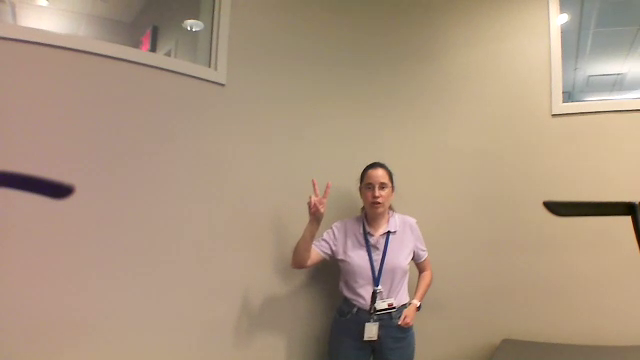peace: (303, 175, 337, 218)
